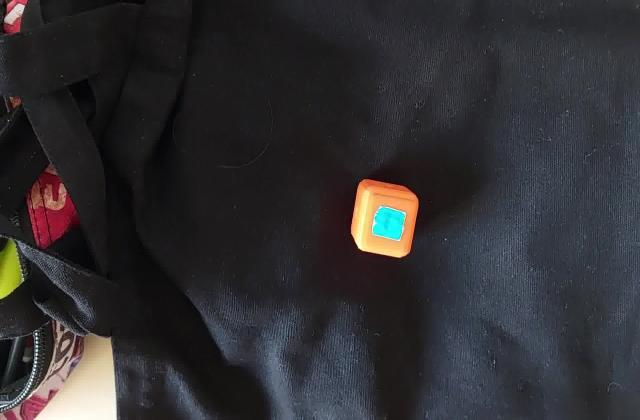blue: (378, 211, 401, 234)
sticker: (347, 176, 420, 260)
